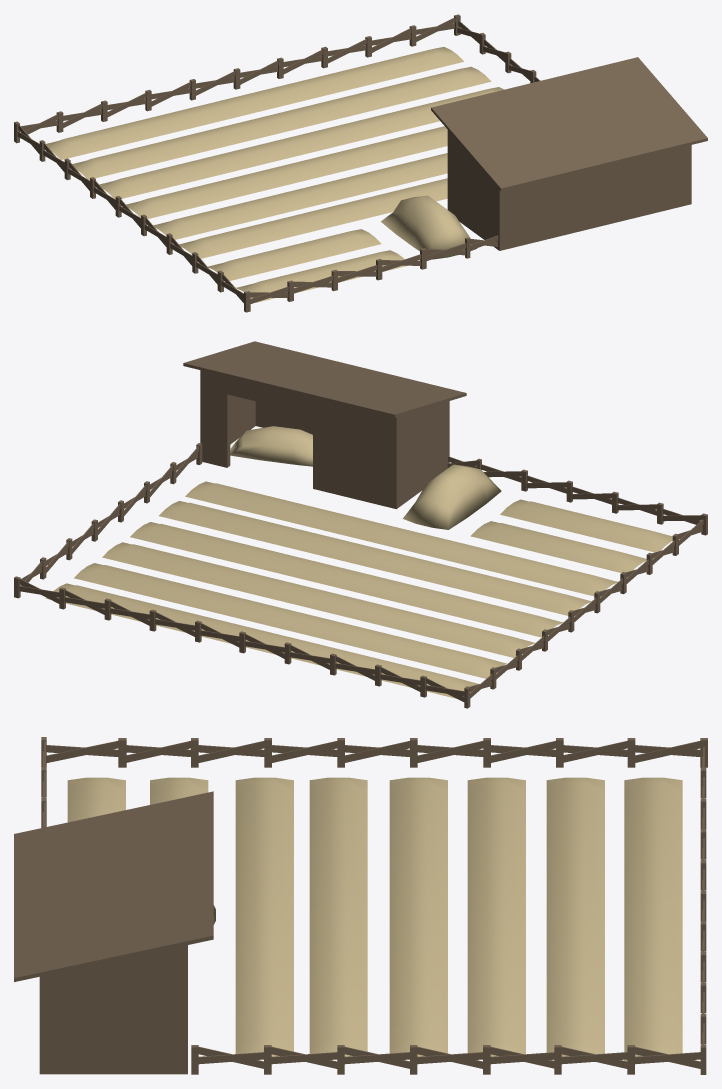
The model's file is Farm_Prototype.fbx.
3 renders of one model, top to bottom at view 1: azimuth 30°, elevation 25°; view 2: azimuth 150°, elevation 25°; view 3: azimuth 270°, elevation 25°, orthographic. The views are drawn at different scales.
Parts seen in each view (by area): view 1: Plane.009; view 2: Plane.009; view 3: Plane.009.
Part boxes in pixels (x1,y1,x2,y2): Plane.009: (14,14,707,312); Plane.009: (14,341,707,708); Plane.009: (14,737,707,1074).
Size of the model in its own units: 2.87 by 0.6219 by 2.67.
